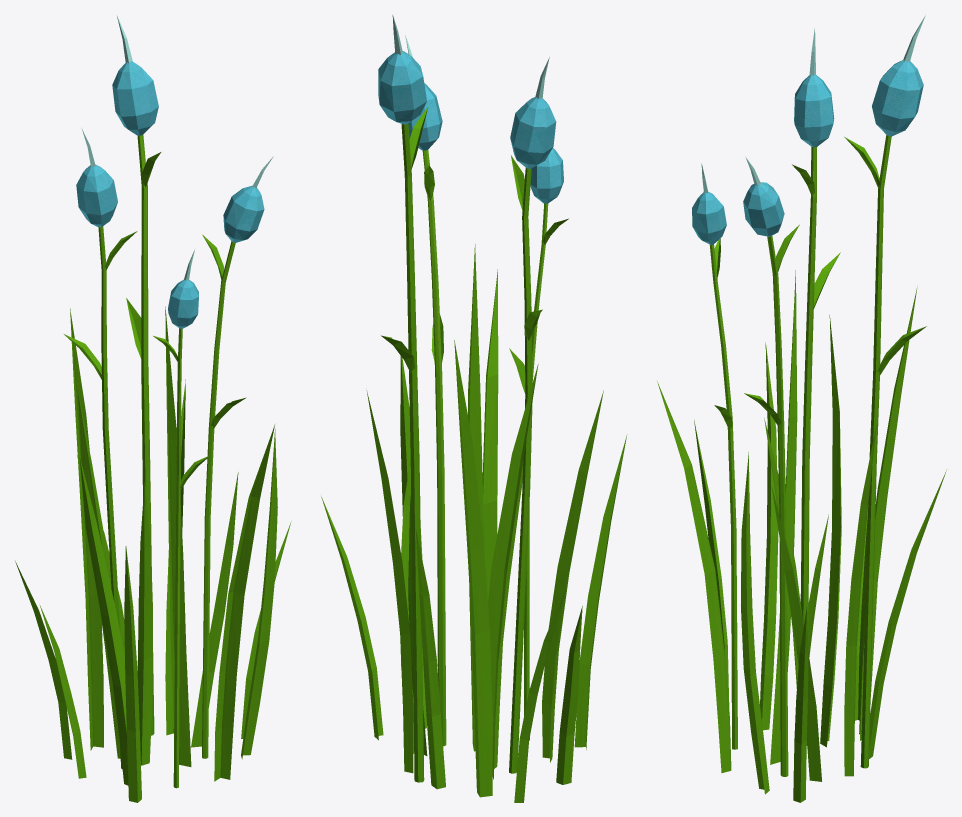
File: PuffReed4_Blue.fbx
The picture shows the model from 3 angles, left to right: view 1: azimuth 30°, elevation 25°; view 2: azimuth 150°, elevation 25°; view 3: azimuth 270°, elevation 25°; orthographic projection. The views are drawn at different scales.
Visible parts, largest first — view 1: Mesh; view 2: Mesh; view 3: Mesh.
Part boxes in pixels (x1,y1,x2,y2): Mesh: [15, 16, 290, 802]; Mesh: [321, 15, 627, 802]; Mesh: [657, 15, 946, 802].
Size of the model in its own units: 162 by 439 by 154.
